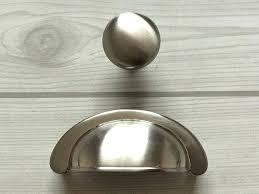cabinet_door: (1, 96, 258, 192), (5, 8, 259, 90)
handle: (42, 110, 212, 180), (97, 16, 169, 72)
